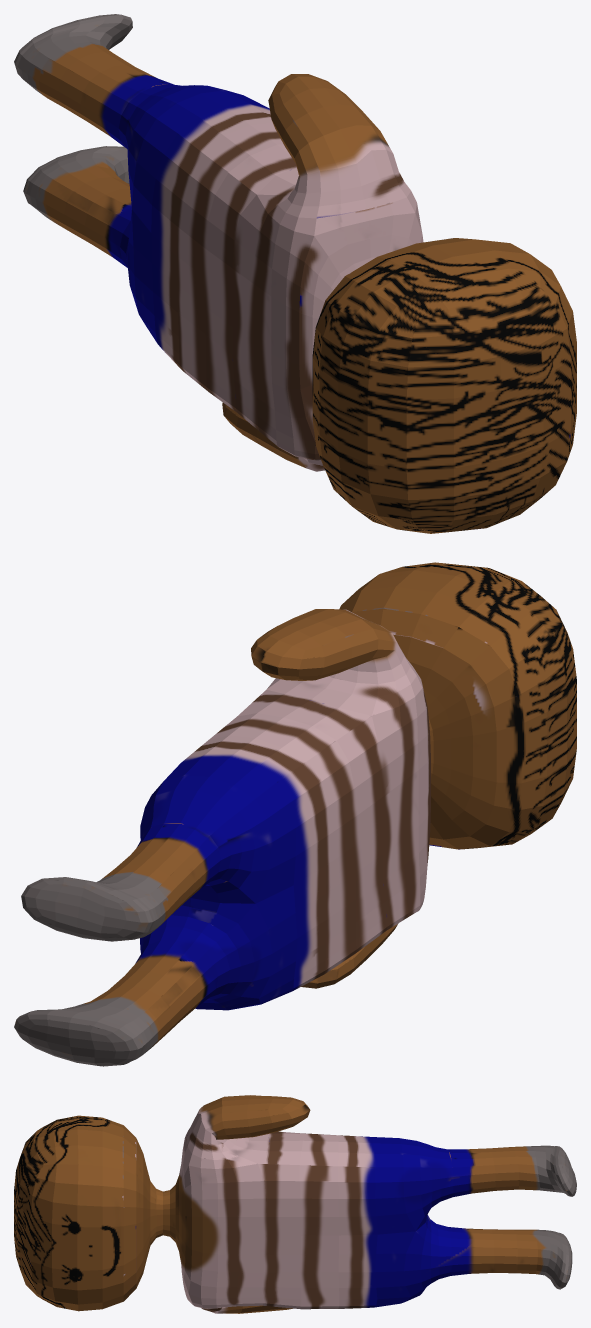
File: antman_walk_10.obj
3 renders of one model, top to bottom at view 1: azimuth 30°, elevation 25°; view 2: azimuth 150°, elevation 25°; view 3: azimuth 270°, elevation 25°, orthographic. The views are drawn at different scales.
Visible parts, largest first — view 1: Cube; view 2: Cube; view 3: Cube.
Part boxes in pixels (x1,y1,x2,y2): Cube: [14, 14, 576, 533]; Cube: [14, 562, 576, 1066]; Cube: [14, 1095, 576, 1313].
Size of the model in its own units: 0.5834 by 0.838 by 1.95.
